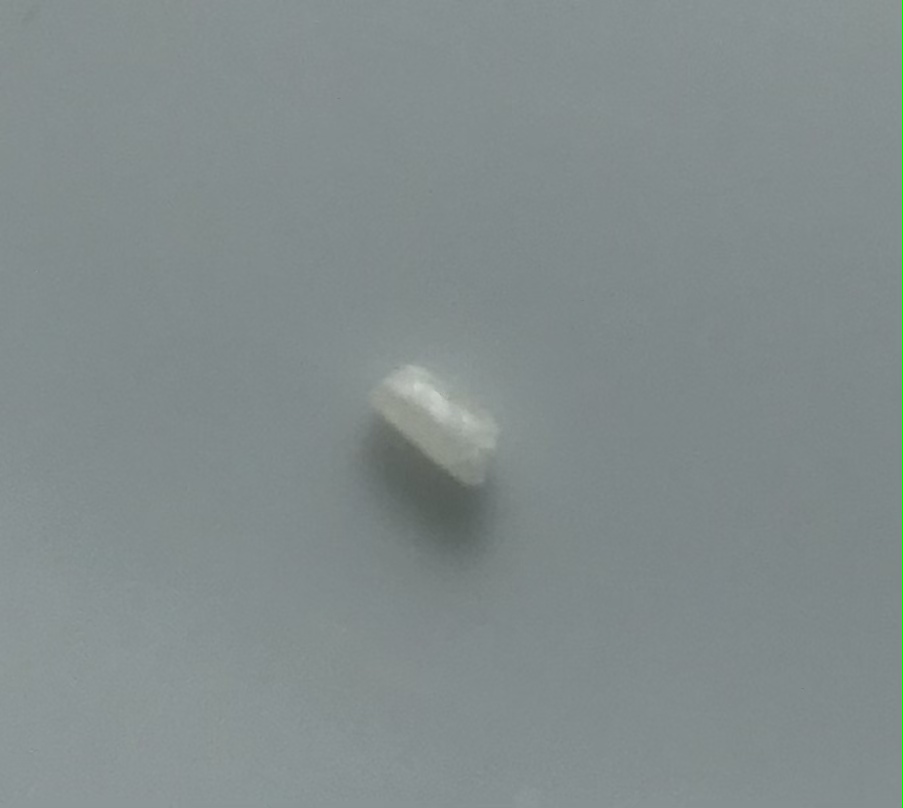Gao Tam: (373, 341, 507, 500)
